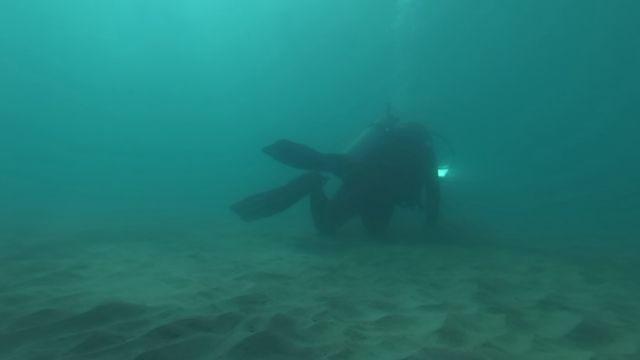Diver: (218, 107, 468, 249)
